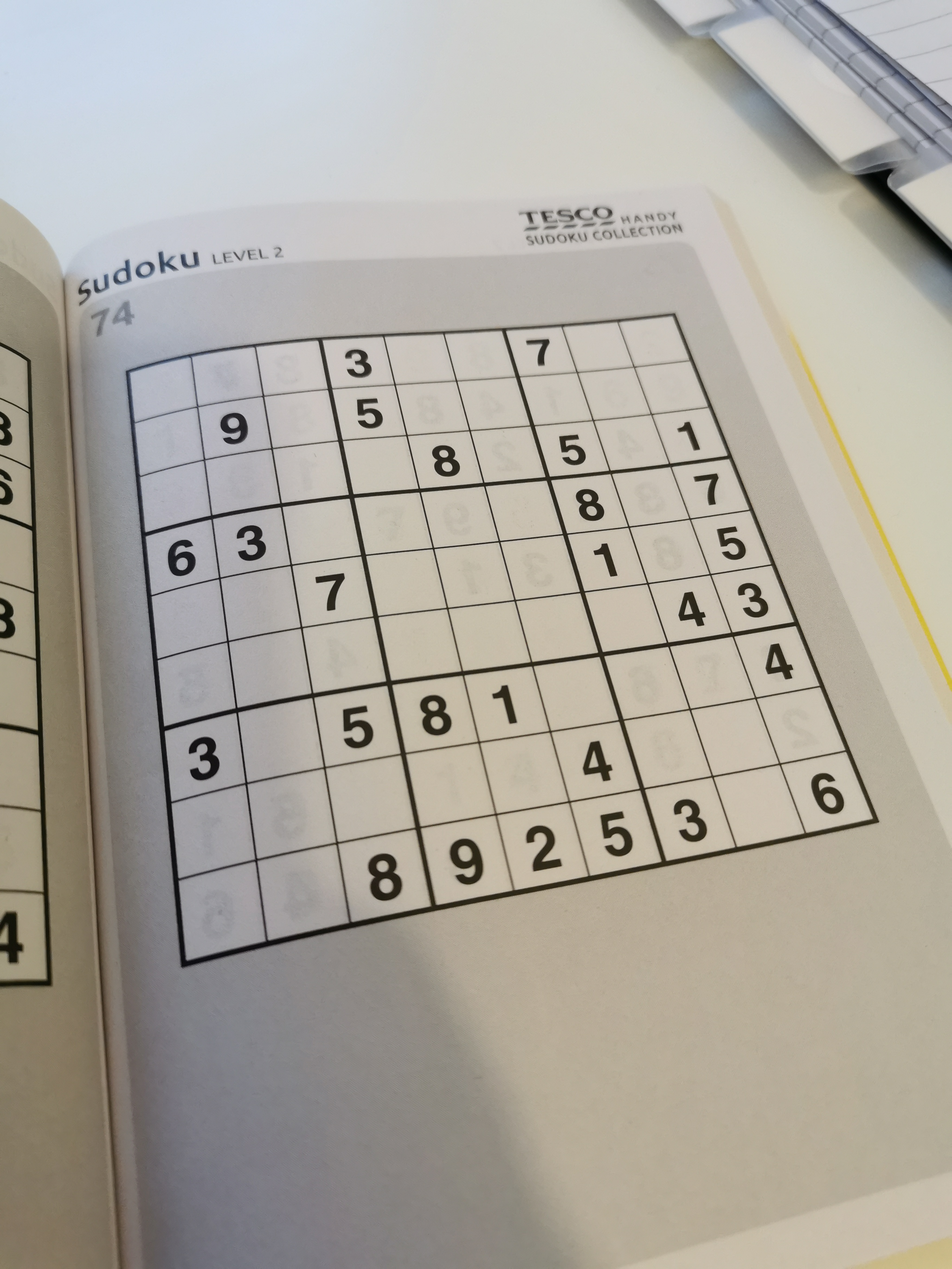sudoku: (118, 307, 886, 982)
